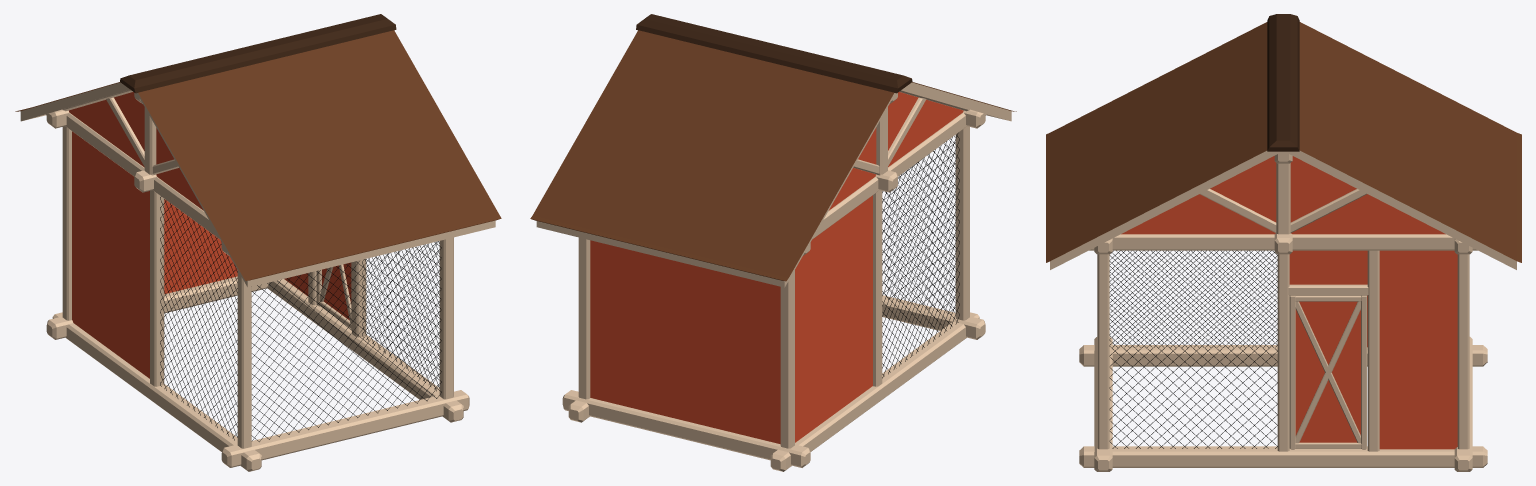
The model's file is Chicken Barn 2x3_v2.fbx.
3 views of the same model, side by side, from view 1: azimuth 30°, elevation 25°; view 2: azimuth 150°, elevation 25°; view 3: azimuth 270°, elevation 25° (orthographic). The views are drawn at different scales.
Visible parts, largest first — view 1: Roof, Wall.Back, Fence.Right, Fence.Front, Roof.Ridge, Beam.Bottom.Right, Beam.Bottom.Back, Wall.Left, Beam.Bottom.Front, Firewall.Back, Fence.Back, Column.Back.Center (+9 smaller); view 2: Roof, Wall.Left, Wall.Back, Fence.Front, Roof.Ridge, Beam.Bottom.Left, Beam.Bottom.Back, Firewall.Back, Column.Back.Right, Column.Back.Left, Beam.Top.Back, Fence.Right (+5 smaller); view 3: Roof, Wall.Front, Door, Firewall.Front, Beam.Bottom.Front, Fence.Back, Beam.Top.Front, Roof.Ridge, Beam.Bottom.Back, Fence.Front, Wall.Front.Door, Column.Front.Center.Door.Handle (+9 smaller).
Boxes of the visible parts, box(x1,y1,x2,y2) form: Roof: box(15, 30, 501, 287); Wall.Back: box(72, 131, 149, 378); Fence.Right: box(251, 241, 441, 441); Fence.Front: box(160, 196, 237, 440); Roof.Ridge: box(120, 14, 396, 93); Beam.Bottom.Right: box(221, 390, 469, 467); Beam.Bottom.Back: box(52, 312, 261, 471); Wall.Left: box(164, 199, 237, 294); Beam.Bottom.Front: box(267, 279, 463, 422); Firewall.Back: box(69, 92, 203, 210); Fence.Back: box(362, 241, 439, 391); Column.Back.Center: box(150, 190, 164, 386); Roof: box(530, 30, 1016, 287); Wall.Left: box(590, 240, 780, 444); Wall.Back: box(795, 195, 872, 442); Fence.Front: box(882, 132, 959, 378); Roof.Ridge: box(636, 14, 912, 93); Beam.Bottom.Left: box(562, 390, 810, 467); Beam.Bottom.Back: box(770, 312, 979, 471); Firewall.Back: box(829, 92, 963, 210); Column.Back.Right: box(955, 126, 969, 320); Column.Back.Left: box(780, 270, 794, 448); Beam.Top.Back: box(812, 112, 966, 239); Fence.Right: box(882, 136, 955, 313); Roof: box(1046, 22, 1521, 269); Wall.Front: box(1379, 250, 1457, 449); Door: box(1289, 295, 1366, 449); Firewall.Front: box(1121, 156, 1445, 234); Beam.Bottom.Front: box(1079, 446, 1487, 467); Fence.Back: box(1109, 250, 1277, 448); Beam.Top.Front: box(1089, 234, 1477, 250); Roof.Ridge: box(1267, 14, 1299, 151); Beam.Bottom.Back: box(1079, 345, 1487, 366); Fence.Front: box(1109, 250, 1277, 347); Wall.Front.Door: box(1289, 250, 1367, 284); Column.Front.Center.Door.Handle: box(1367, 250, 1379, 451).
Bounding box in the file's own units: 259 × 310 × 397.
